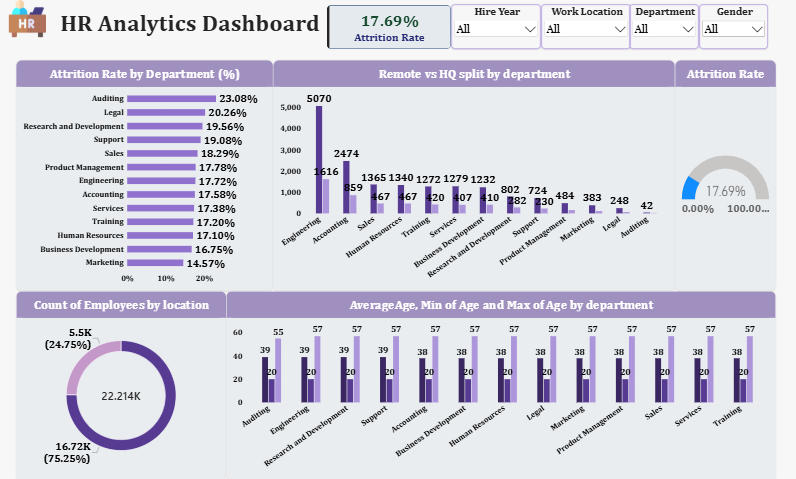

What the dashboard file says about the page in this screenshot:
{"tool":"powerbi","page":{"name":"Page 2","canvas":[2000,1200],"ordinal":1},"visuals":[{"type":"clusteredBarChart","title":"Attrition Rate by Department (%)","fields":{"Category":["project_hr_analytics HR.department"],"Y":["project_hr_analytics HR.Attrition Rate"]},"box":[40,150,642.5,577.5],"z":0},{"type":"textbox","box":[136.6,22,680.5,70.7],"z":1000},{"type":"image","box":[0,0,136.6,92.7],"z":2000},{"type":"slicer","title":"Gender","fields":{"Values":["project_hr_analytics HR.gender"]},"box":[1747.5,10,172.5,112.5],"z":3000},{"type":"slicer","title":"Department","fields":{"Values":["project_hr_analytics HR.department"]},"box":[1572.5,10,175,112.5],"z":4000},{"type":"slicer","title":"Work Location","fields":{"Values":["project_hr_analytics HR.location"]},"box":[1352.5,10,225,112.5],"z":5000},{"type":"slicer","title":"Hire Year","fields":{"Values":["project_hr_analytics HR.Hire Year"]},"box":[1127.5,10,225,112.5],"z":6000},{"type":"clusteredColumnChart","title":"Remote vs HQ split by department","fields":{"Category":["project_hr_analytics HR.department"],"Series":["project_hr_analytics HR.location"],"Y":["CountNonNull(project_hr_analytics HR.id)"]},"box":[682.5,150,1005,577.5],"z":7000},{"type":"donutChart","fields":{"Category":["project_hr_analytics HR.location"],"Y":["CountNonNull(project_hr_analytics HR.id)"]},"box":[40.8,727.2,525.6,472.8],"z":8000},{"type":"clusteredColumnChart","fields":{"Category":["project_hr_analytics HR.department"],"Y":["project_hr_analytics HR.AverageAge","Min(project_hr_analytics HR.Age)","Max(project_hr_analytics HR.Age)1"]},"box":[565,727.5,1375,472.5],"z":9000},{"type":"cardVisual","fields":{"Data":["project_hr_analytics HR.Attrition Rate"]},"box":[817.5,12.5,310,110],"z":10000},{"type":"gauge","fields":{"Y":["project_hr_analytics HR.Attrition Rate"]},"box":[1687.5,150,252.5,577.5],"z":11000}]}

Visuals, with their boxes in screenshot pixels (x1, y1, x2, y2), scaled from the page's 2000x1200 canvas onto the 796x479 screenshot:
"Attrition Rate by Department (%)" clusteredBarChart: locate(16, 60, 272, 290)
textbox: locate(54, 9, 325, 37)
image: locate(0, 0, 54, 37)
"Gender" slicer: locate(696, 4, 764, 49)
"Department" slicer: locate(626, 4, 696, 49)
"Work Location" slicer: locate(538, 4, 628, 49)
"Hire Year" slicer: locate(449, 4, 538, 49)
"Remote vs HQ split by department" clusteredColumnChart: locate(272, 60, 672, 290)
donutChart - project_hr_analytics HR.location x CountNonNull(project_hr_analytics HR.id): locate(16, 290, 225, 478)
clusteredColumnChart - project_hr_analytics HR.department x project_hr_analytics HR.AverageAge: locate(225, 290, 772, 478)
cardVisual - project_hr_analytics HR.Attrition Rate: locate(325, 5, 449, 49)
gauge - project_hr_analytics HR.Attrition Rate: locate(672, 60, 772, 290)
